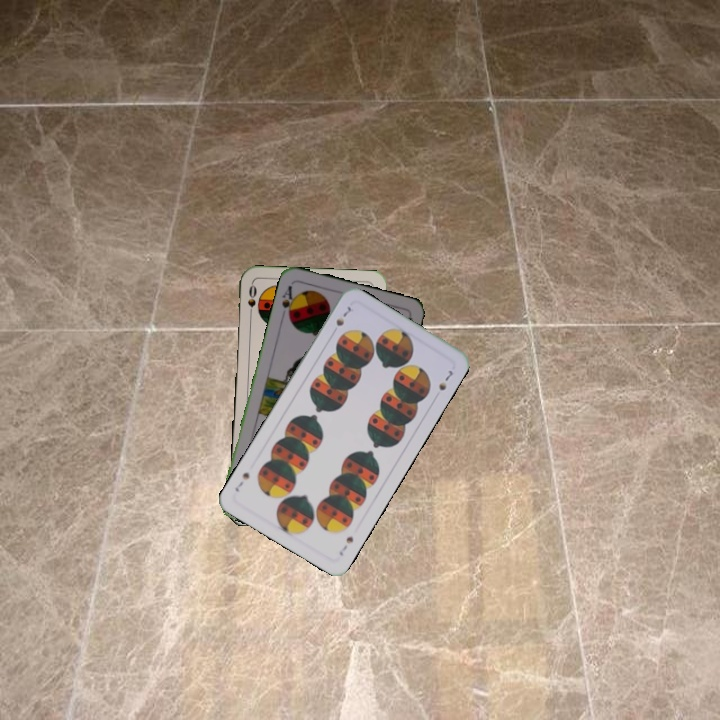S7: (332, 302, 356, 329), (335, 532, 356, 559)
SA: (277, 281, 299, 322)
SO: (244, 280, 259, 321)
